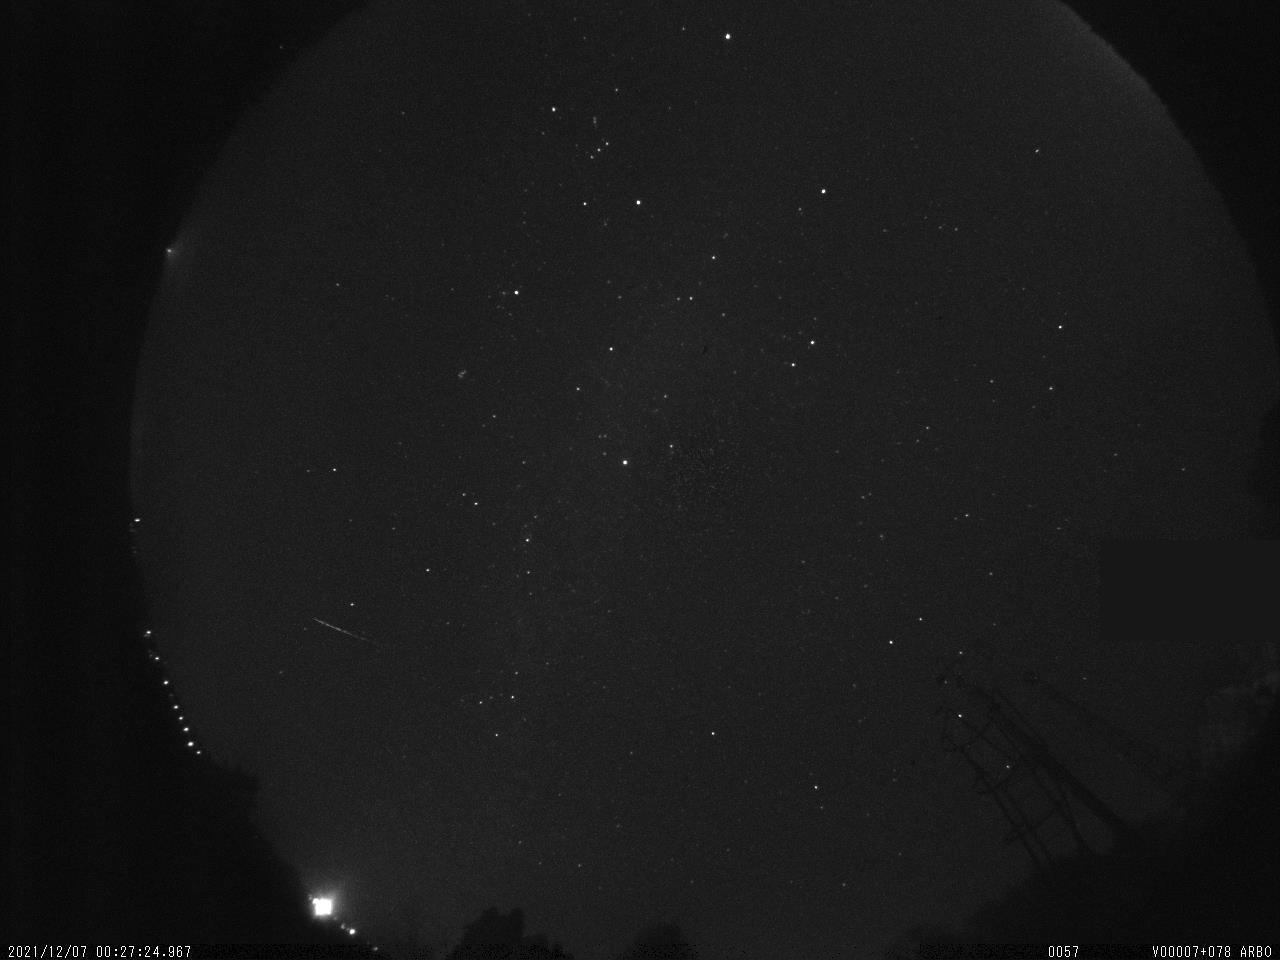Meteor: (303, 608, 375, 649)
